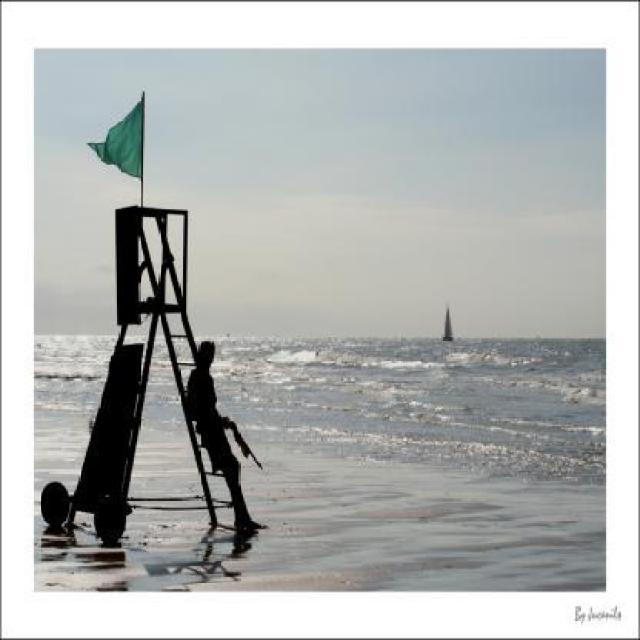Person: (186, 338, 269, 536)
